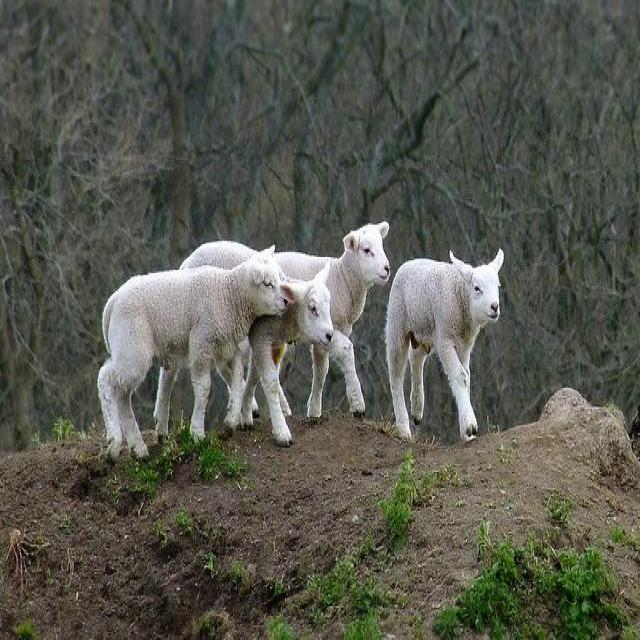Sheep: (96, 247, 288, 464), (156, 244, 323, 446), (386, 249, 505, 449), (276, 221, 389, 422), (237, 258, 335, 442)
